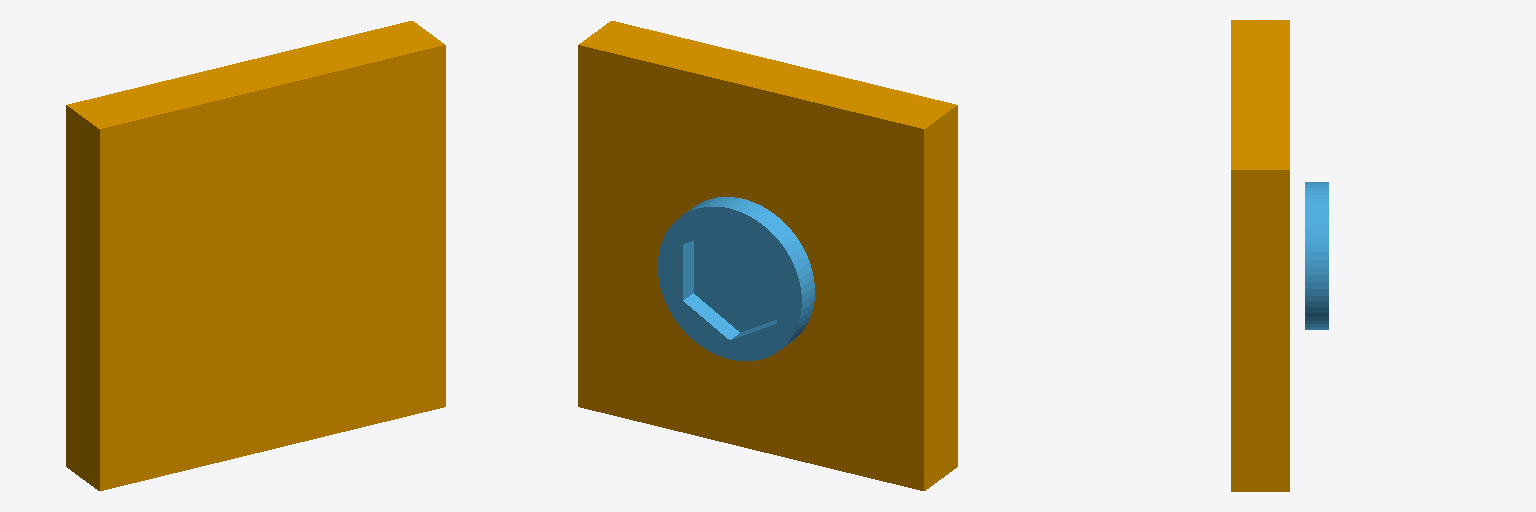
The robot description file, URDF, robot "hex_screw_base":
<?xml version="1.0"?>
<robot name="hex_screw_base">

  <link name="base">
    <visual>
      <origin xyz="0 0.01 0" rpy="0 0 0"/>
      <geometry>
        <box size="0.12 0.02 0.12"/>
      </geometry>
    </visual>	
    <collision>
      <origin xyz="0 0.01 0" rpy="0 0 0"/>
      <geometry>
        <box size="0.12 0.02 0.12"/>
      </geometry>
    </collision>
  </link>

  <link name="screw">
    <visual>
      <origin xyz="0 0 0" rpy="0 0 0"/>
      <geometry>
        <mesh filename="hex_screw/screw_head.obj" scale="0.00125 0.00125 0.00125"/>
      </geometry>
    </visual>	
    <collision>
      <origin xyz="0 0 0" rpy="0 0 0"/>
      <geometry>
        <mesh filename="hex_screw/screw_head.obj" scale="0.00125 0.00125 0.00125"/>
      </geometry>
    </collision>
  </link>

  <joint name="screw_to_base" type="revolute">
    <parent link="base"/>
    <child link="screw"/>
    <origin xyz="0 0.025 0"/>
    <axis xyz="0 1 0"/>
    <limit lower="-3.14" upper="3.14" effort="100" velocity="3"/>
  </joint>

</robot>

--- What the picture shows (computed from the rendered views, not written in the file) ---
3 views of the same robot in one strip: view 1: azimuth 30°, elevation 25°; view 2: azimuth 150°, elevation 25°; view 3: azimuth 270°, elevation 25° (orthographic).
Robot: hex_screw_base — 2 links, 1 joints (1 revolute); root link base; default pose: all joints at 0.
Visible links, largest first — view 1: base; view 2: base, screw; view 3: base, screw.
Link boxes in pixels (bbox=[...]): base: bbox=[66, 21, 445, 490]; base: bbox=[578, 21, 957, 490]; screw: bbox=[658, 197, 814, 360]; base: bbox=[1231, 20, 1289, 491]; screw: bbox=[1305, 182, 1328, 329].
Bounding box of the posed robot: 0.12 × 0.0329 × 0.12 m (x, y, z).
Meshes: 1 distinct files referenced, 1 mesh visuals loaded (1 OBJ).